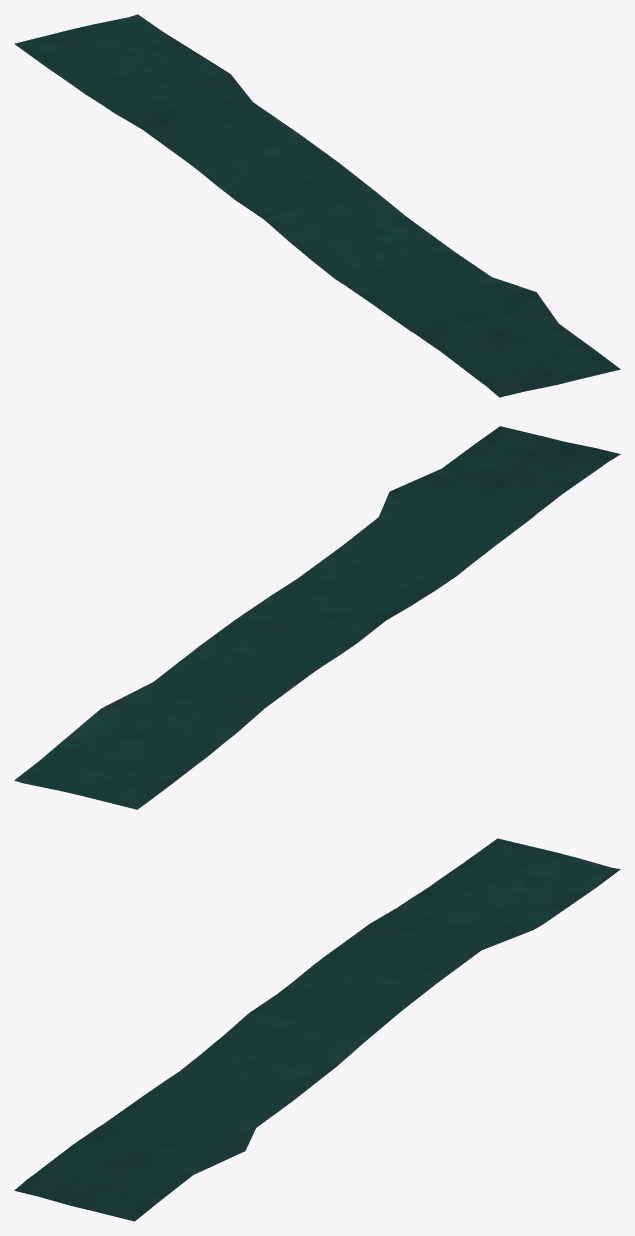
The picture shows the model from 3 angles, top to bottom: view 1: azimuth 30°, elevation 25°; view 2: azimuth 150°, elevation 25°; view 3: azimuth 330°, elevation 25°; orthographic projection.
Size of the model in its own units: 8.36 by 0.6057 by 52.22.
Materials: 1 (1 with a texture image).
